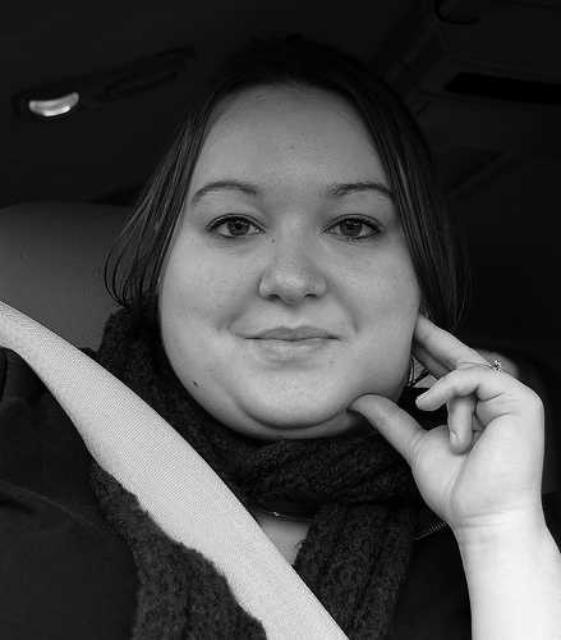SafeDriving: (309, 195, 400, 252), (193, 194, 278, 250)
Seatbelt: (1, 294, 360, 640)
